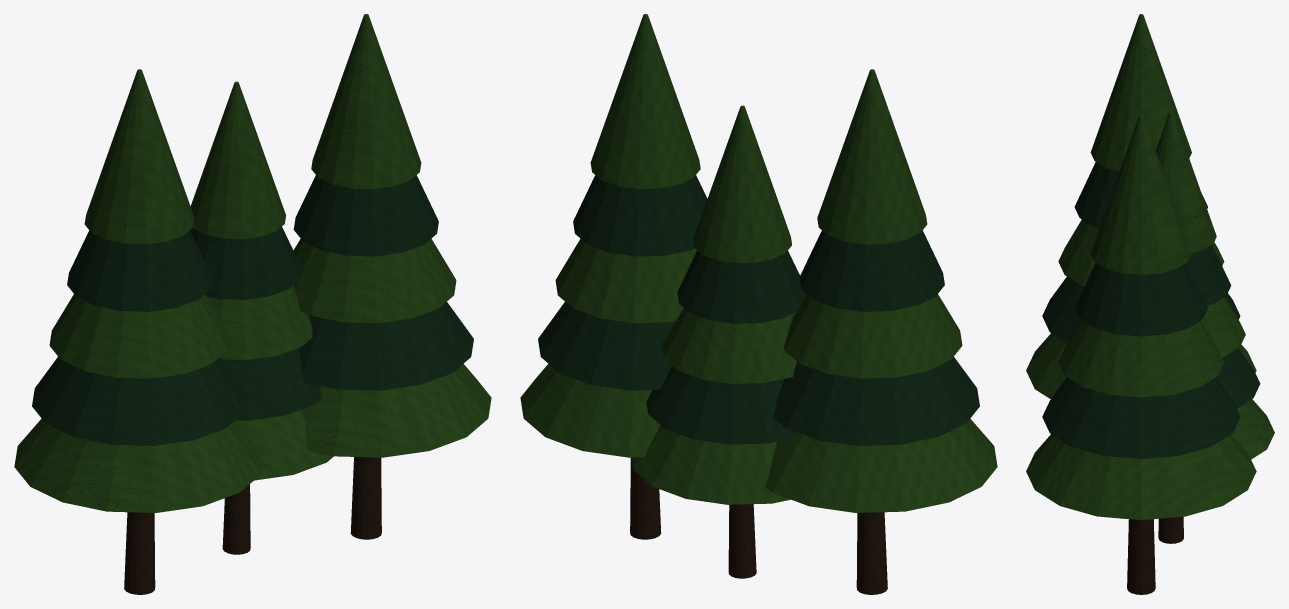
The model's file is PROP-7425B681F110_lod0.glb.
3 renders of one model, left to right at view 1: azimuth 30°, elevation 25°; view 2: azimuth 150°, elevation 25°; view 3: azimuth 270°, elevation 25°, orthographic. The views are drawn at different scales.
Parts seen in each view (by area): view 1: layered_conifer_crown.010, layered_conifer_crown.011, trunk.006; view 2: layered_conifer_crown.010, layered_conifer_crown.011, trunk.006; view 3: layered_conifer_crown.010, layered_conifer_crown.011, trunk.006.
Boxes of the visible parts, box(x1,y1,x2,y2) form: layered_conifer_crown.010: box(14, 14, 491, 512); layered_conifer_crown.011: box(32, 175, 473, 445); trunk.006: box(124, 457, 381, 594); layered_conifer_crown.010: box(520, 14, 997, 512); layered_conifer_crown.011: box(538, 175, 979, 445); trunk.006: box(630, 458, 887, 594); layered_conifer_crown.010: box(1026, 14, 1274, 520); layered_conifer_crown.011: box(1042, 162, 1260, 458); trunk.006: box(1127, 516, 1183, 594).
Size of the model in its own units: 7.86 by 8.75 by 4.17.
Materials: 3 (3 with a texture image).
